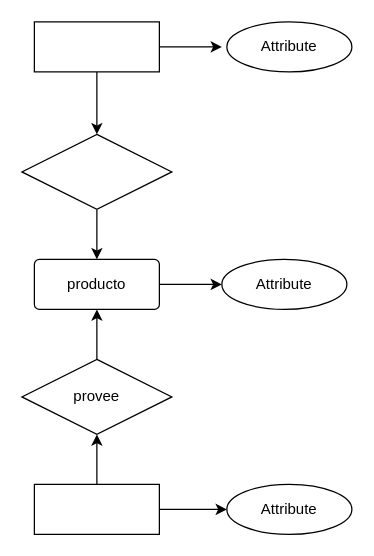
The diagram is 374 pixels wide and 556 high, and some of its shapes have lost their labels. Each missing label, with the centre of its shape:
cliente: point (96, 46)
compra: point (96, 171)
proveedor: point (96, 508)
